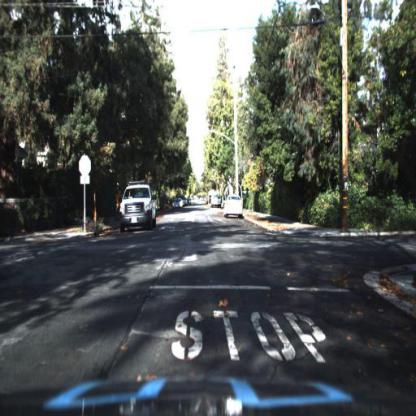car: (118, 174, 159, 233), (223, 193, 246, 223), (223, 193, 242, 219), (209, 188, 224, 209), (170, 197, 181, 213)
